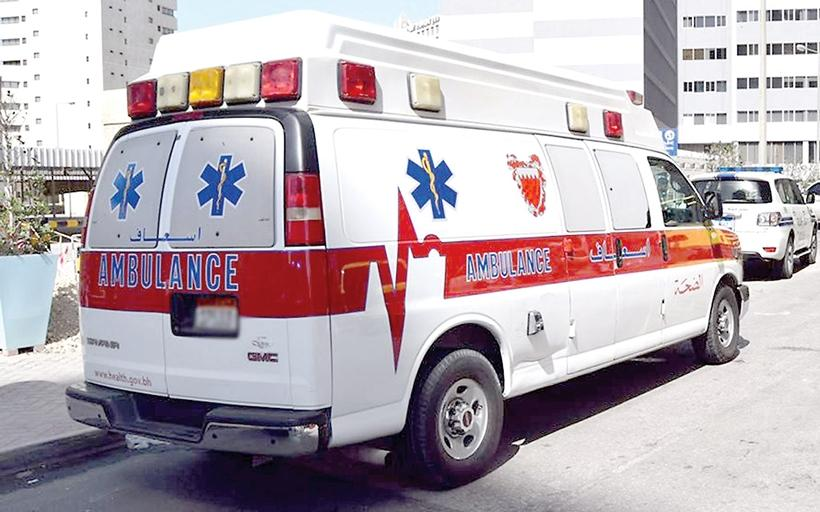ambulance_off: (65, 11, 751, 485)
